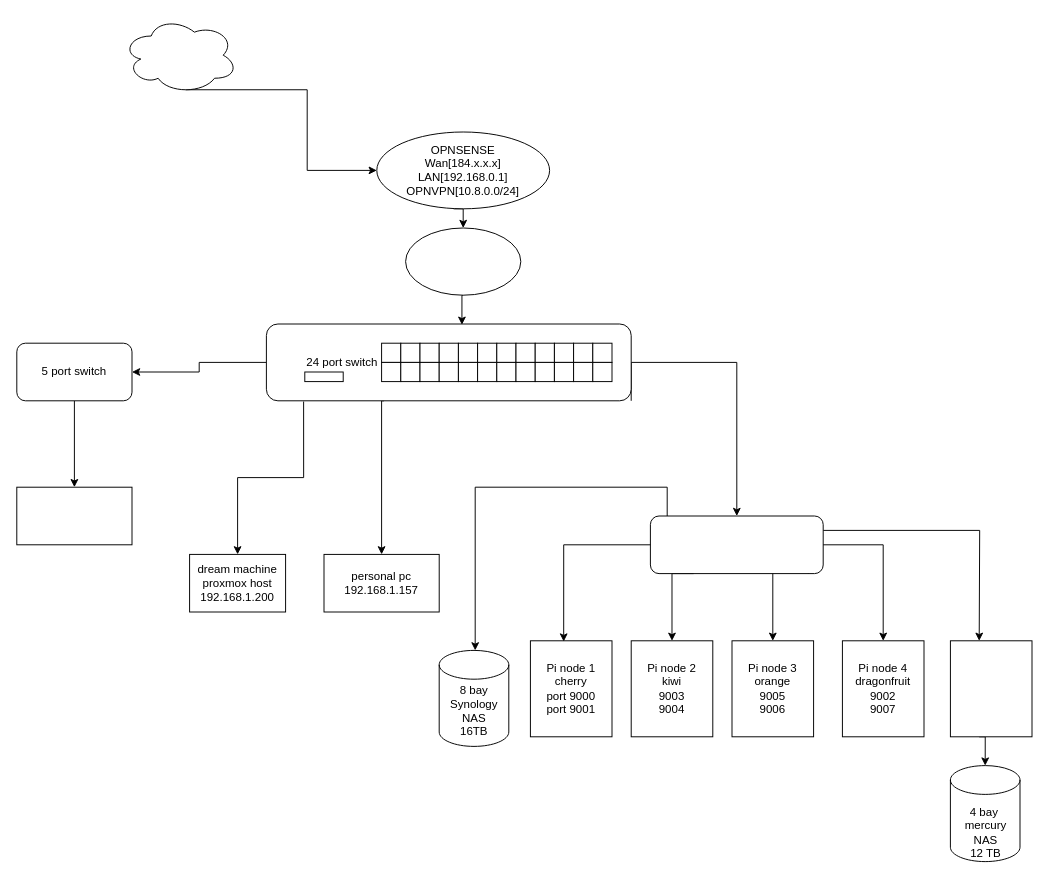
This 1049x878 diagram has some shape labels left out. Here are the shapes that lost their labels. From the top down, the centre of each, then its label:
[179,55]: INTERNET
[463,261]: OPENWRT WAN[192.168.0.2] LAN[192.168.1.1]
[74,515]: NAS proxmox host 192.168.1.200
[736,544]: 8 port POE switch
[990,688]: Optiplex proxmox host 192.168.1.150
